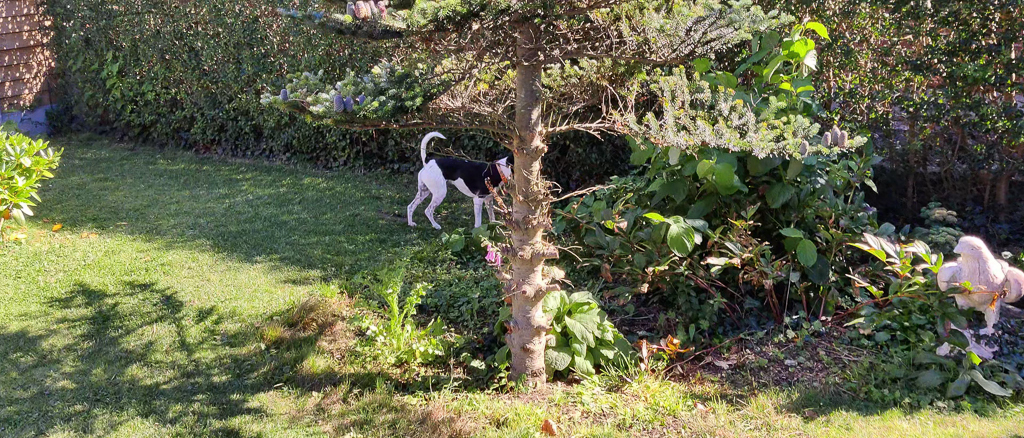Dog: (392, 117, 536, 237)
Eagle: (927, 225, 1024, 357)
